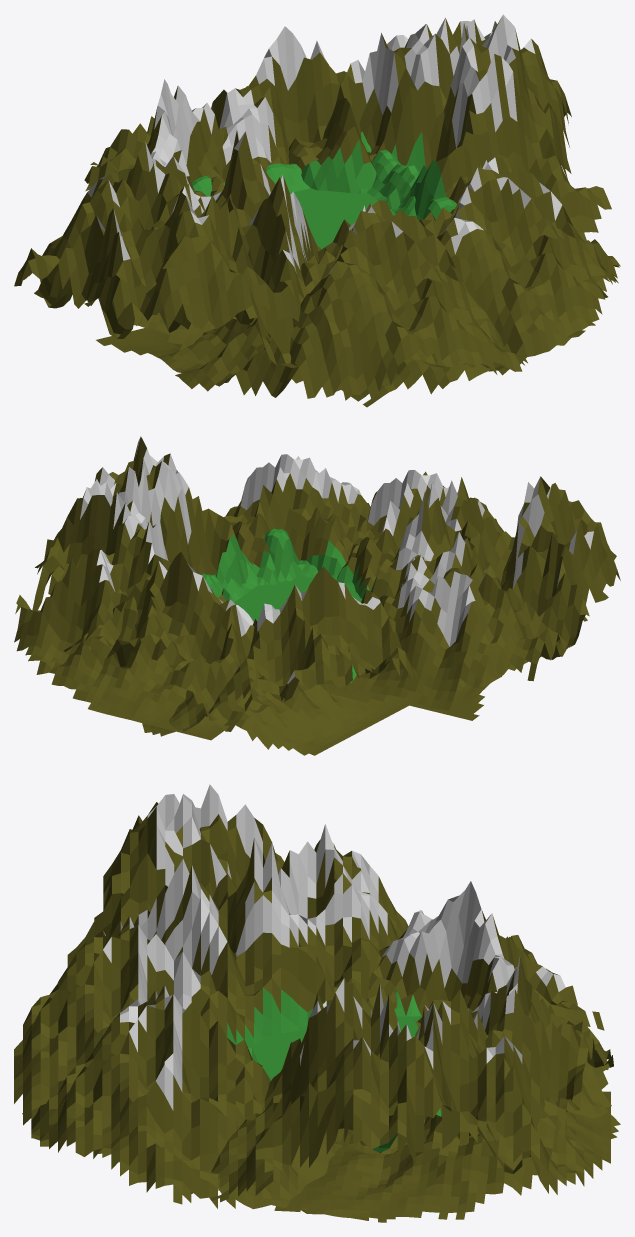
Rendered from Level1_Terrain 1.fbx.
3 views of the same model, one above another, from view 1: azimuth 30°, elevation 25°; view 2: azimuth 150°, elevation 25°; view 3: azimuth 270°, elevation 25° (orthographic). The views are drawn at different scales.
Visible parts, largest first — view 1: Landscape_3, Landscape_1, Landscape_4, Landscape, Landscape_5, Landscape_2, Plane; view 2: Landscape_3, Landscape_1, Landscape_5, Landscape_2, Landscape, Landscape_4, Plane; view 3: Landscape_3, Landscape_1, Landscape, Landscape_5, Landscape_4, Landscape_2, Plane.
Part boxes in pixels (x1,y1,x2,y2): Landscape_3: [14, 130, 321, 367]; Landscape_1: [288, 14, 611, 240]; Landscape_4: [96, 200, 527, 400]; Landscape: [336, 157, 620, 407]; Landscape_5: [211, 26, 346, 192]; Landscape_2: [84, 79, 227, 364]; Plane: [191, 131, 456, 249]; Landscape_3: [322, 476, 620, 710]; Landscape_1: [14, 436, 268, 740]; Landscape_5: [64, 551, 421, 755]; Landscape_2: [142, 566, 464, 736]; Landscape: [224, 454, 370, 585]; Landscape_4: [336, 470, 527, 720]; Plane: [201, 528, 362, 683]; Landscape_3: [67, 784, 408, 1037]; Landscape_1: [191, 978, 610, 1202]; Landscape: [22, 985, 395, 1222]; Landscape_5: [274, 954, 613, 1219]; Landscape_4: [14, 916, 263, 1190]; Landscape_2: [367, 881, 620, 1153]; Plane: [247, 988, 441, 1116].
Size of the model in its own units: 938 by 369 by 835.
